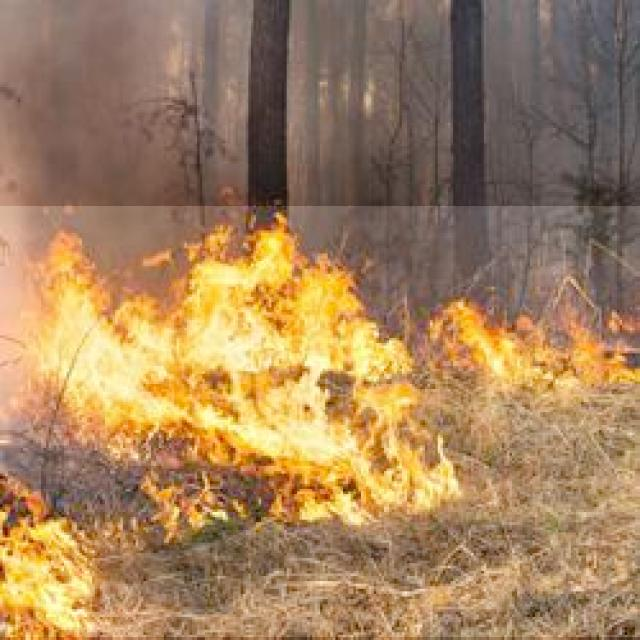Fire: (0, 206, 640, 637)
